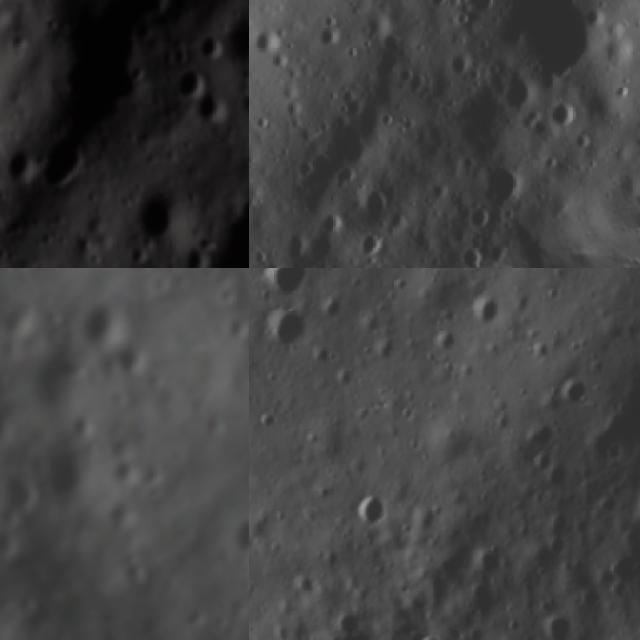crater: (484, 0, 618, 96), (26, 120, 96, 205), (194, 199, 249, 268), (473, 152, 535, 212), (259, 304, 311, 363), (81, 300, 132, 358), (0, 468, 51, 519), (538, 89, 587, 137), (265, 268, 322, 308), (352, 175, 399, 223), (249, 18, 292, 69), (169, 55, 213, 104), (554, 364, 591, 421), (344, 221, 390, 265), (462, 286, 508, 329), (200, 16, 239, 65), (455, 196, 498, 240), (116, 340, 156, 384), (351, 492, 388, 537), (197, 86, 237, 126), (532, 610, 577, 640), (451, 236, 491, 268), (329, 606, 366, 640), (451, 0, 505, 21), (0, 527, 26, 568), (622, 0, 640, 46)
